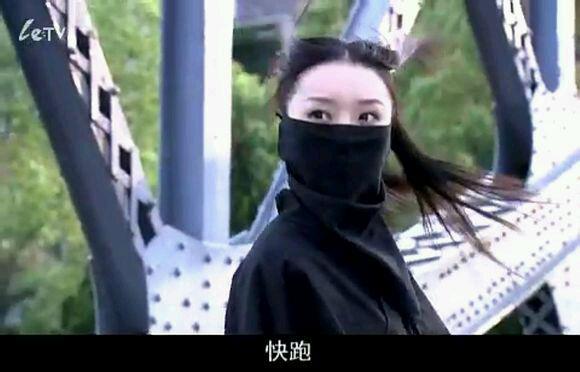OK: (289, 91, 390, 192)
